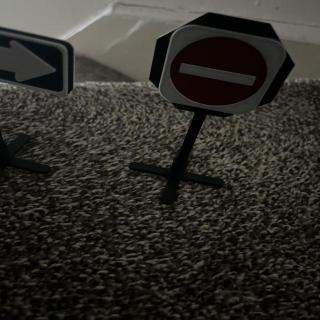sign_noentry: (158, 24, 290, 119)
sign_oneway_right: (1, 26, 75, 100)
